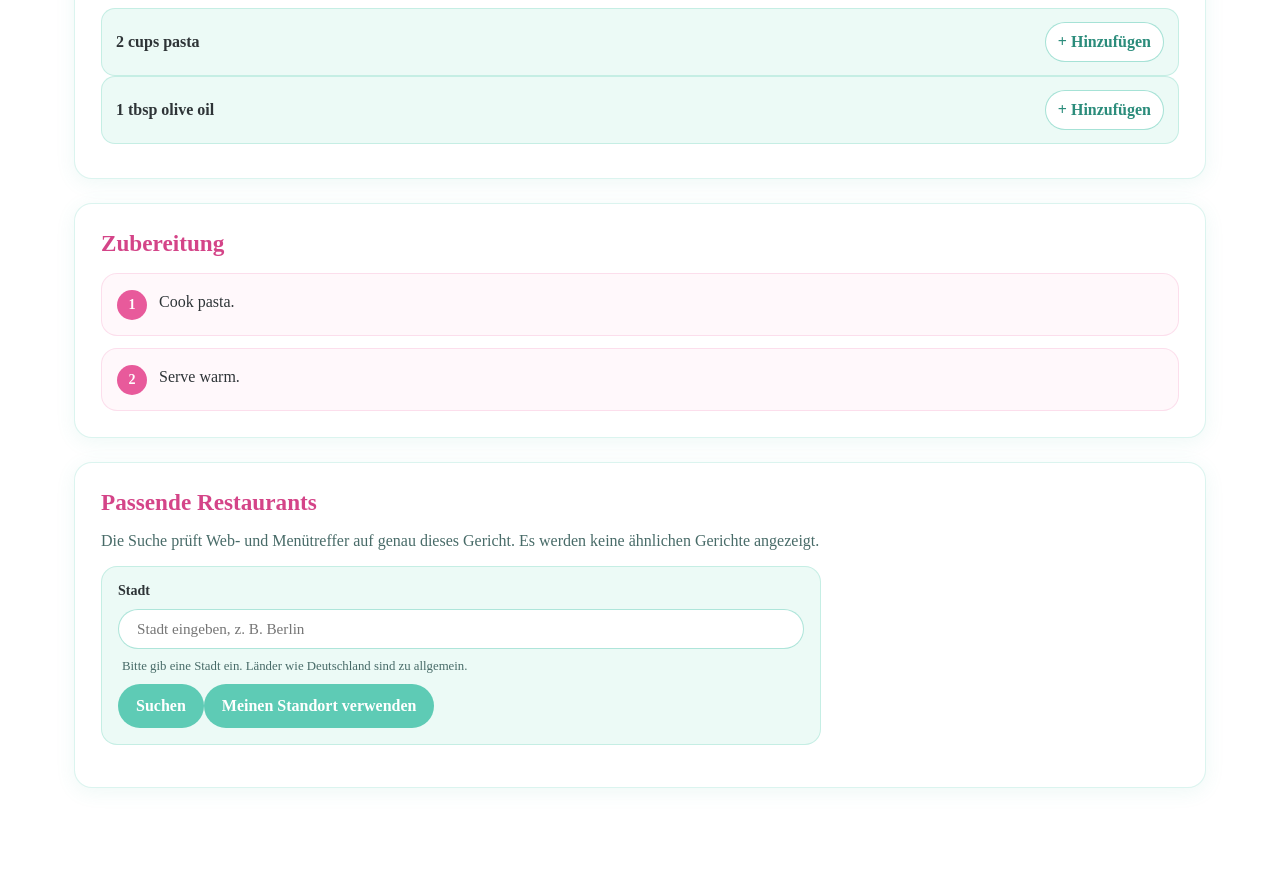
Test case: RecipeDetailView › shows location mismatch message when backend reports locationMismatch
The width and height of the screenshot is (1280, 895).
(page scrolled)
In the field with class "location-input": point(461, 628) [118,608,804,648], type "Berlin"
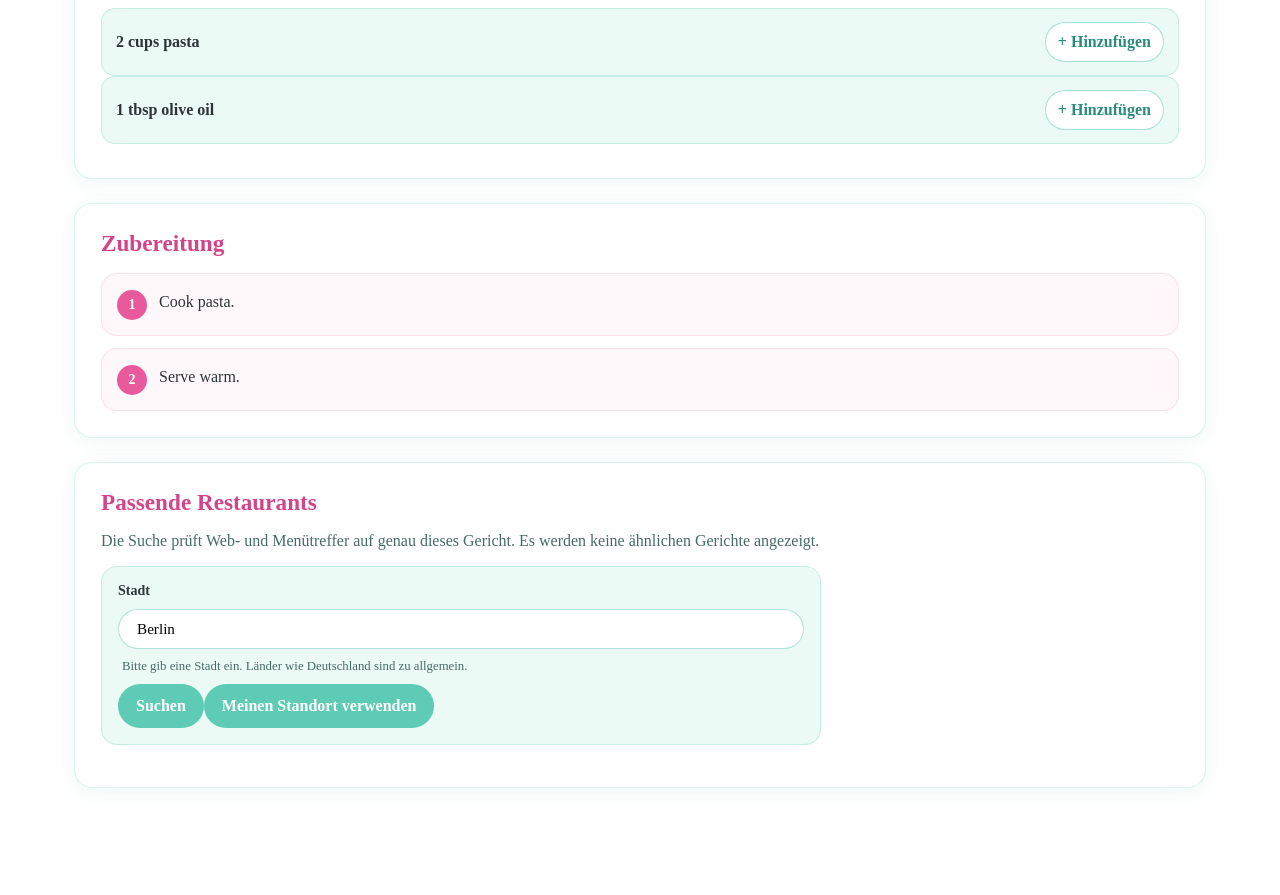
Click the button with class "gps-button": point(319, 706) [204,684,434,728]
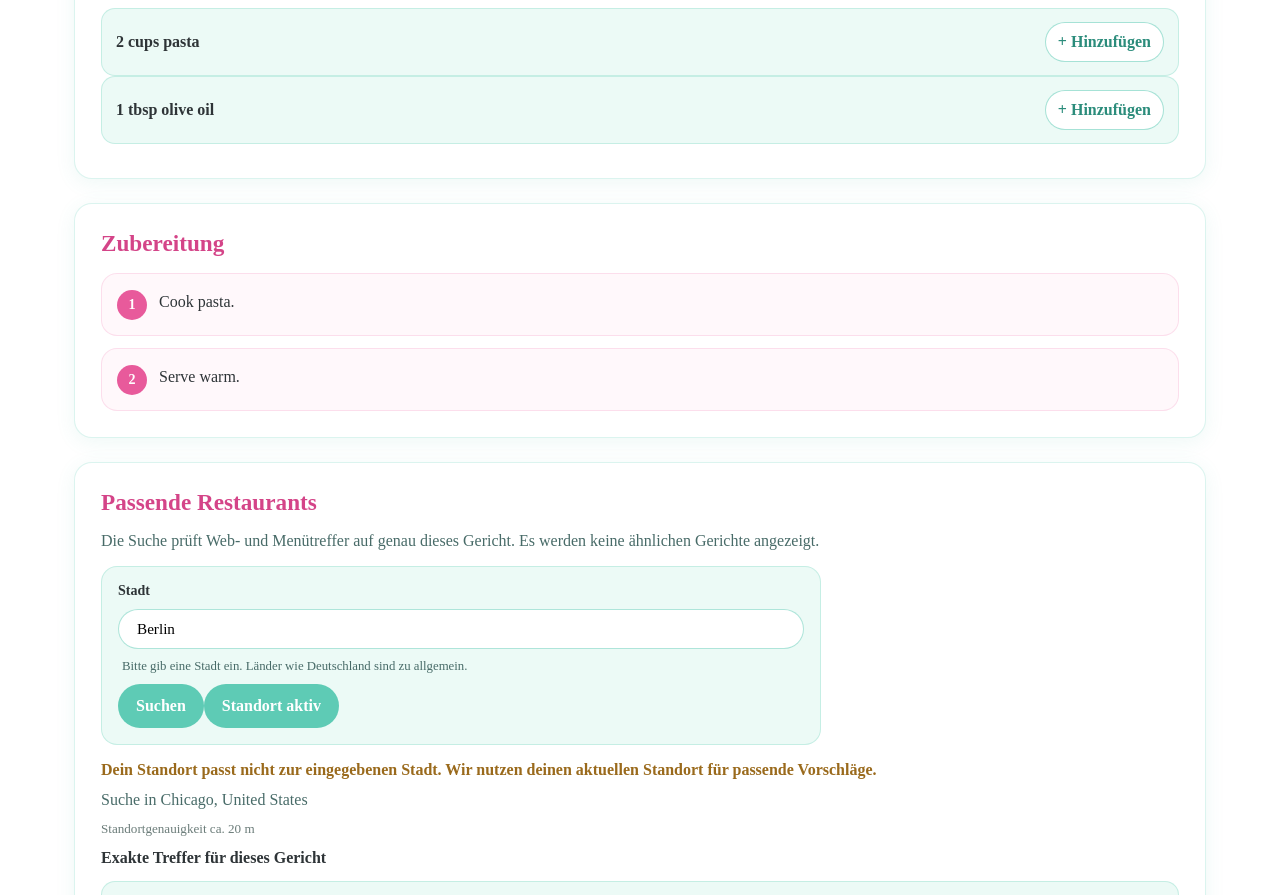
Result: the text "Dein Standort passt nicht zur eingegebenen Stadt" is shown at [101,760,876,778]
